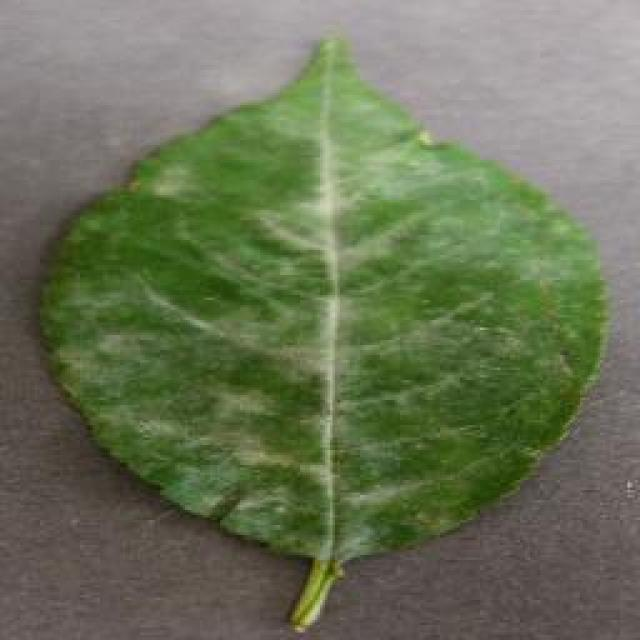Cherry___Powdery_mildew: (30, 20, 618, 640)
